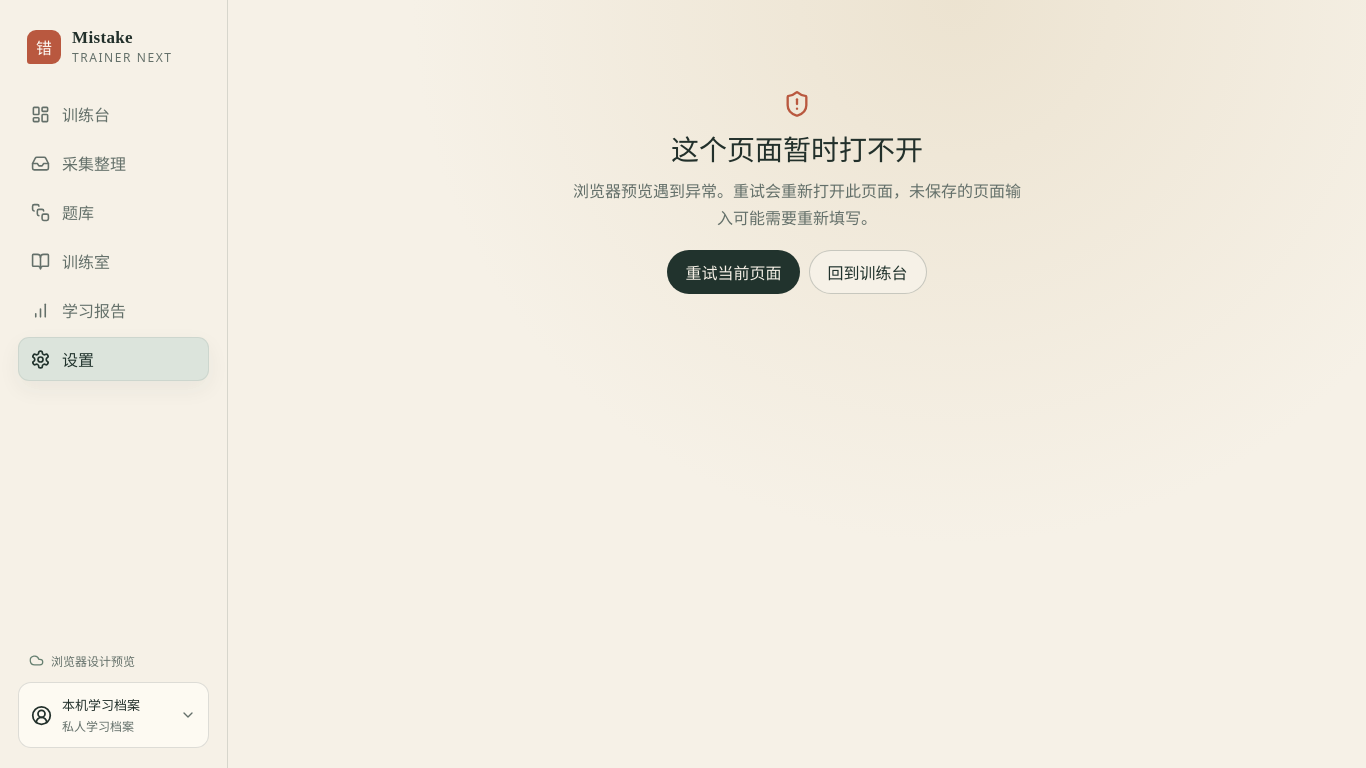
App › recreates the current route after a transient render failure
Expected: the message "这个页面暂时打不开 浏览器预览遇到异常。重试会重新打开此页面，未保存的页面输入可能需要重新填写。 重试当前页面 回到训练台" is shown, [573, 90, 1021, 294]
Click the button "重试当前页面": [734, 272] box [668, 250, 800, 294]
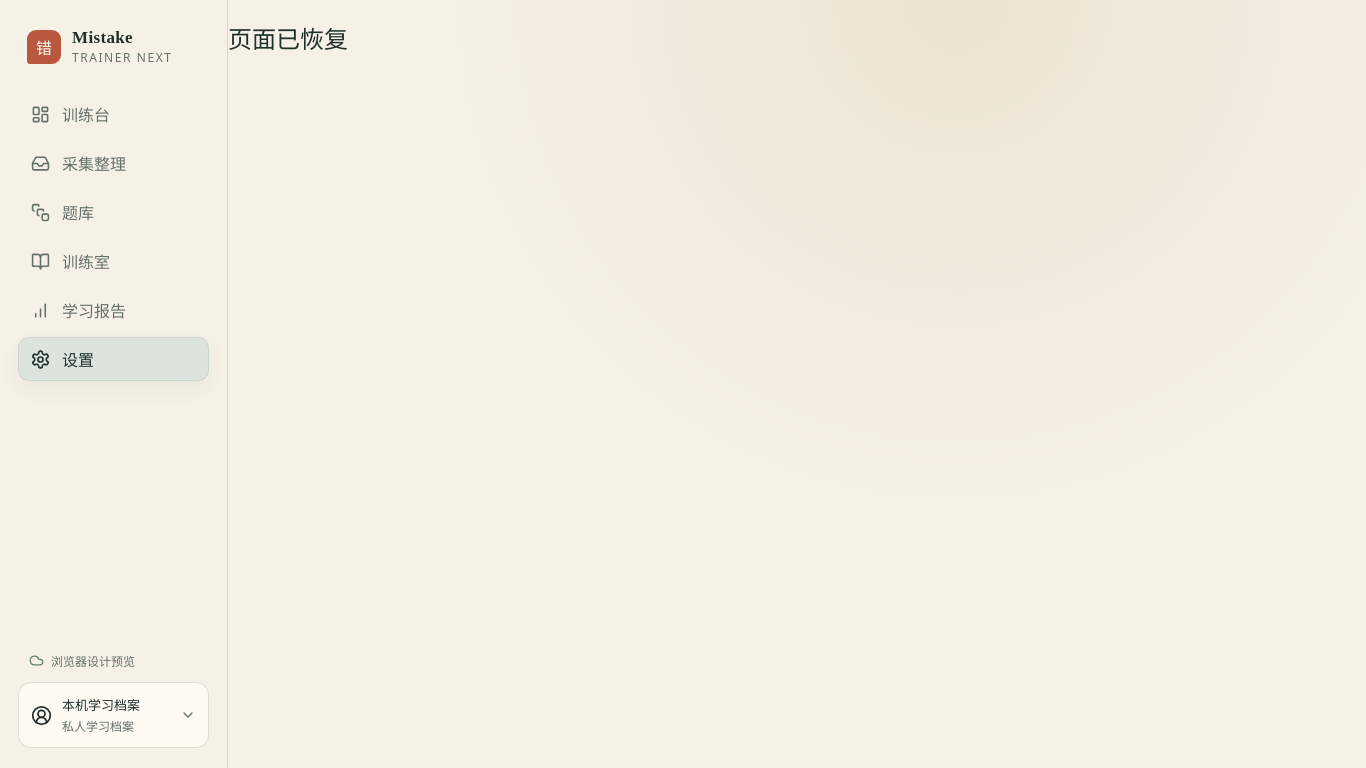
Now the heading "页面已恢复" is shown, box [228, 22, 348, 55]
